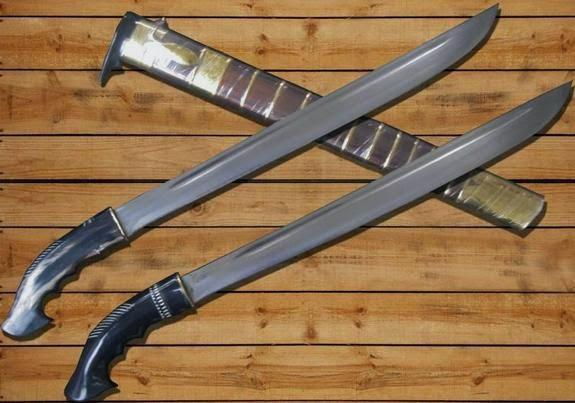facao: (2, 7, 497, 338), (65, 83, 568, 400)
